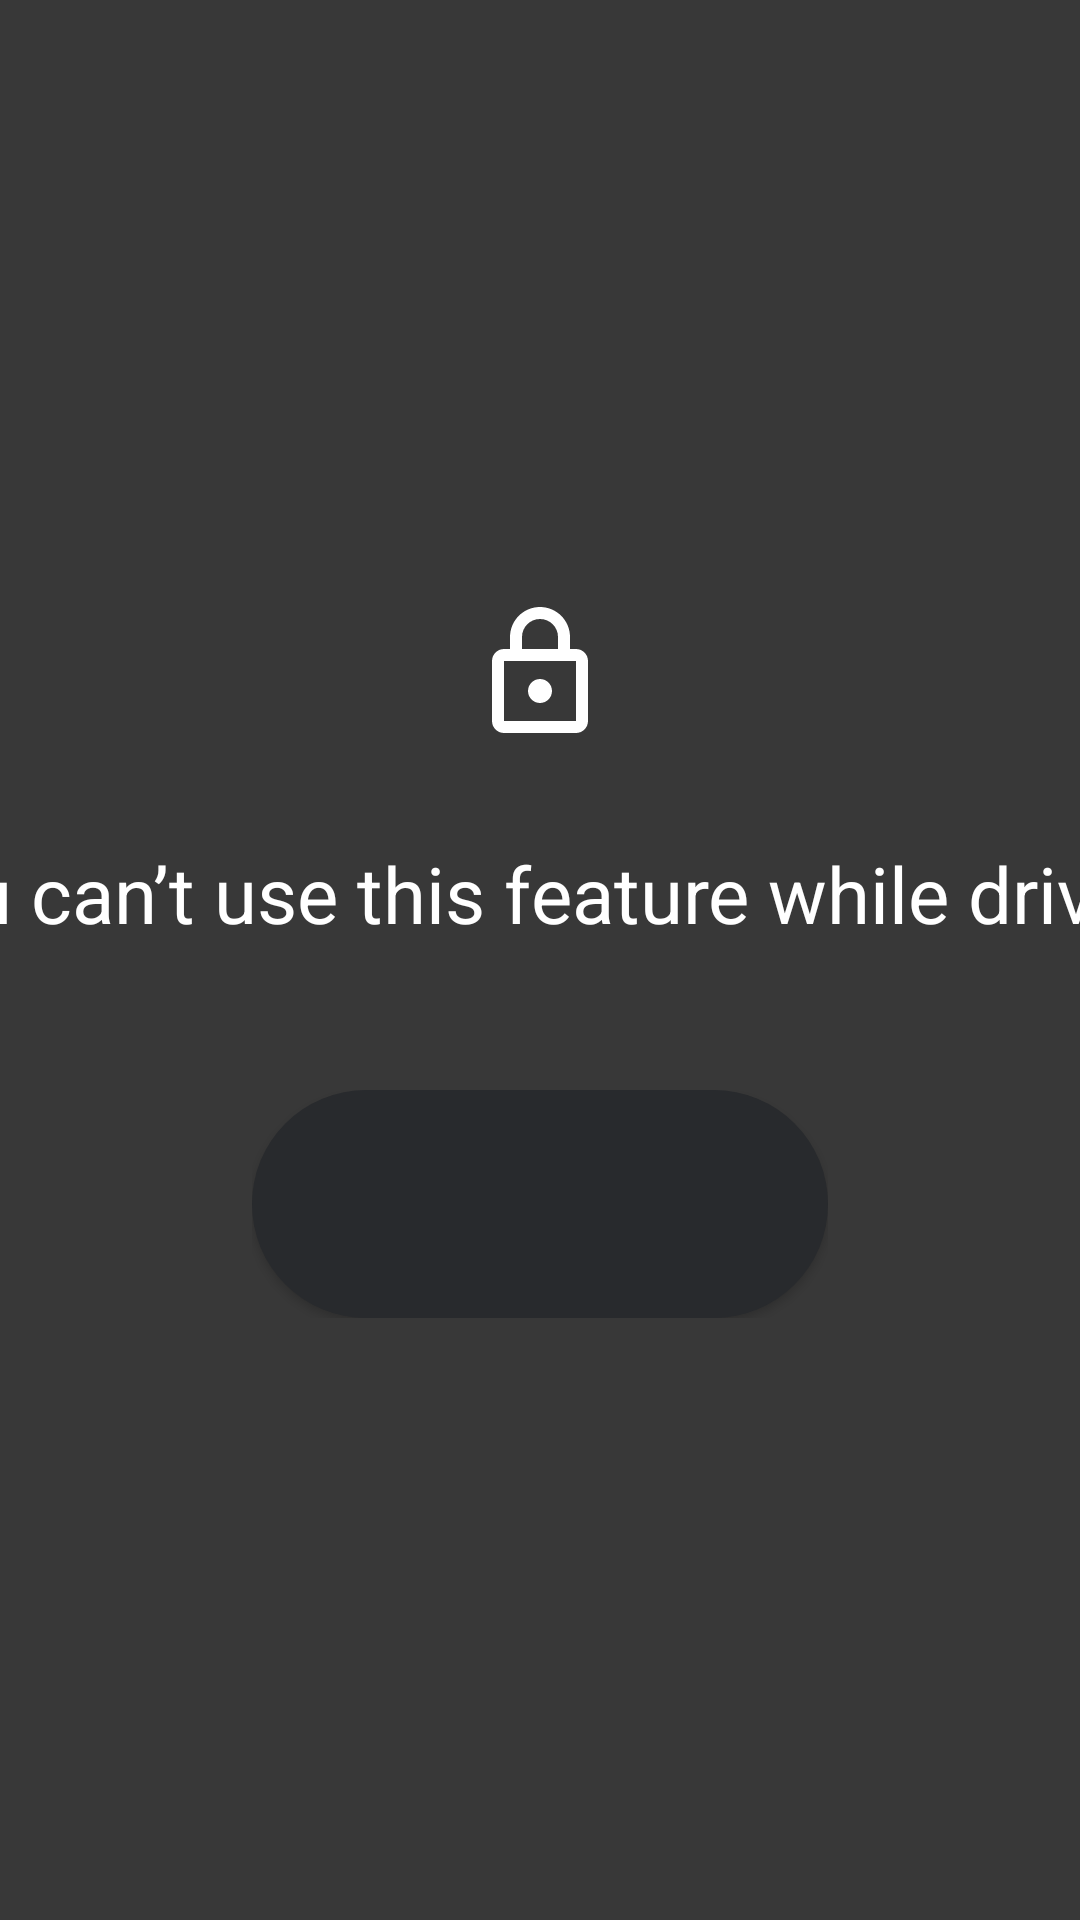

Locate icon controls on the screen. Image size 1080 × 1920, boxes as region(x1, y1, x2, y2).
car ux restricted: region(492, 607, 588, 733)
